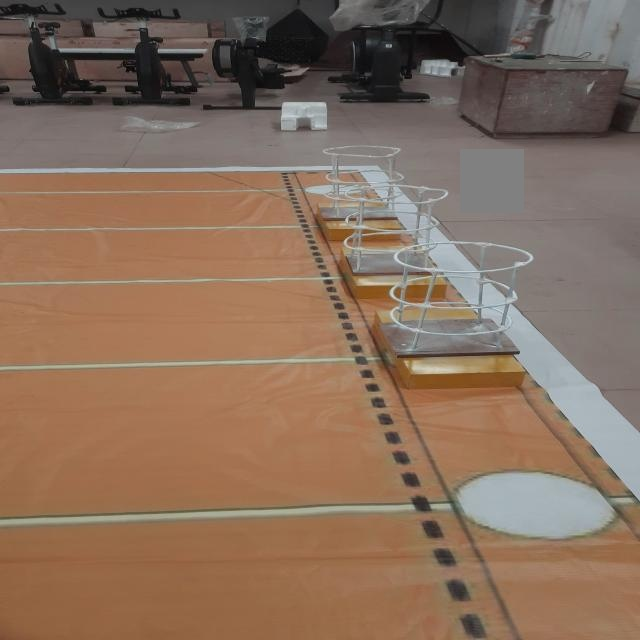silo: (384, 238, 535, 362), (339, 180, 447, 284), (320, 140, 408, 227)
